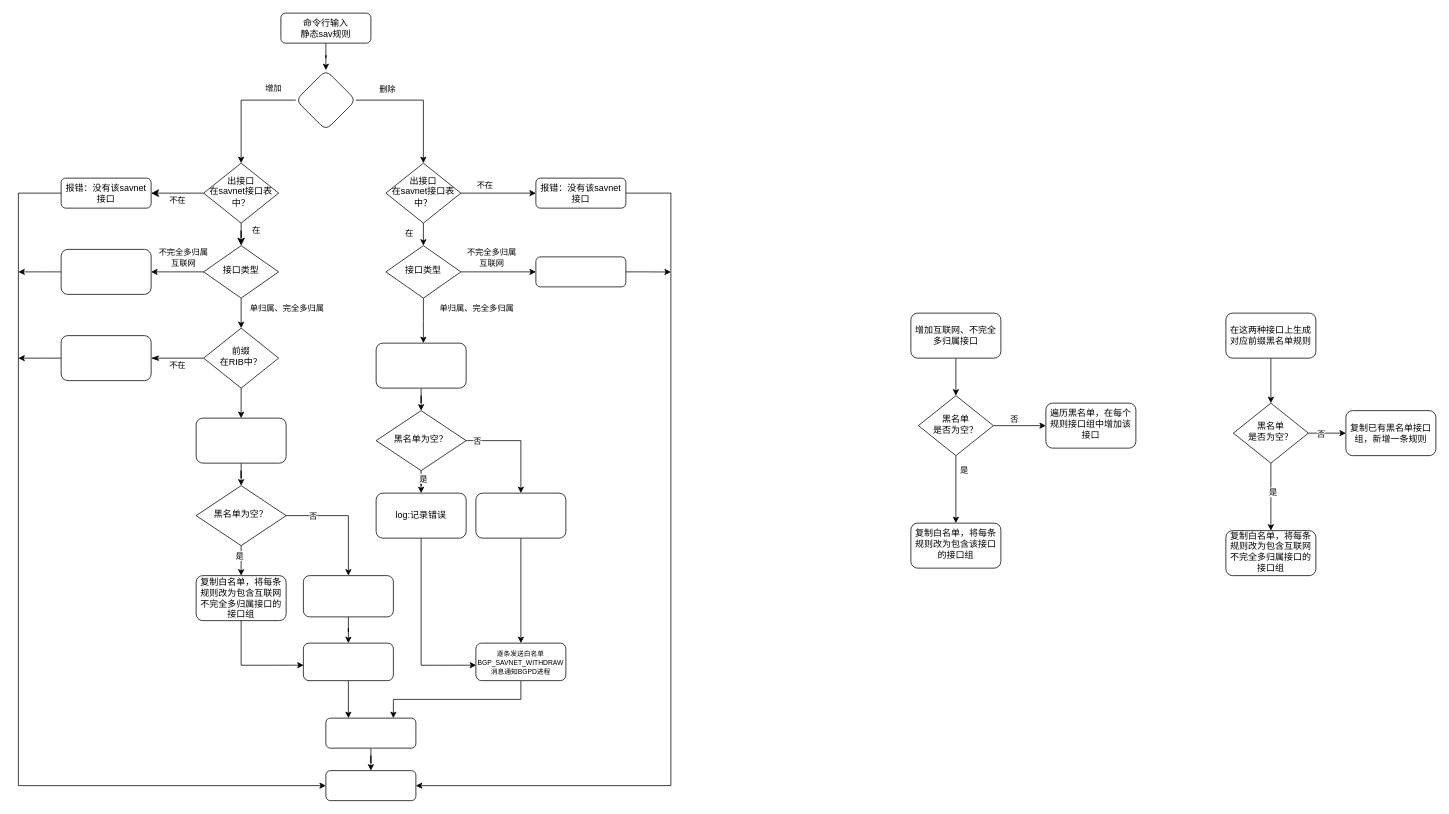
Some shapes in this 1449 by 814 pixel diagram are drawn without their labels. Here are the shapes that lost their labels. From the top down, the box of each, then its label:
(295, 69, 356, 130): 增加规则？
(60, 249, 151, 294): 黑名单中添加该表项
(535, 256, 626, 287): 删除黑名单
(60, 335, 151, 381): 白名单增加sav规则，状态设置为inactive
(375, 342, 466, 388): 白名单中删除该接口的白名单sav规则
(195, 417, 286, 463): 白名单中生成该接口的白名单sav规则
(475, 492, 566, 538): 根据白名单索引在黑名单中删除两种接口上删除对应前缀规则
(303, 575, 393, 617): 复制已有黑名单接口组，根据前缀新增一条规则
(303, 642, 393, 681): 逐条发送白名单BGP_SAVNET_DECLARE消息通知BGPD进程
(325, 717, 416, 748): bfruntime下发流表
(325, 770, 416, 801): 结束
